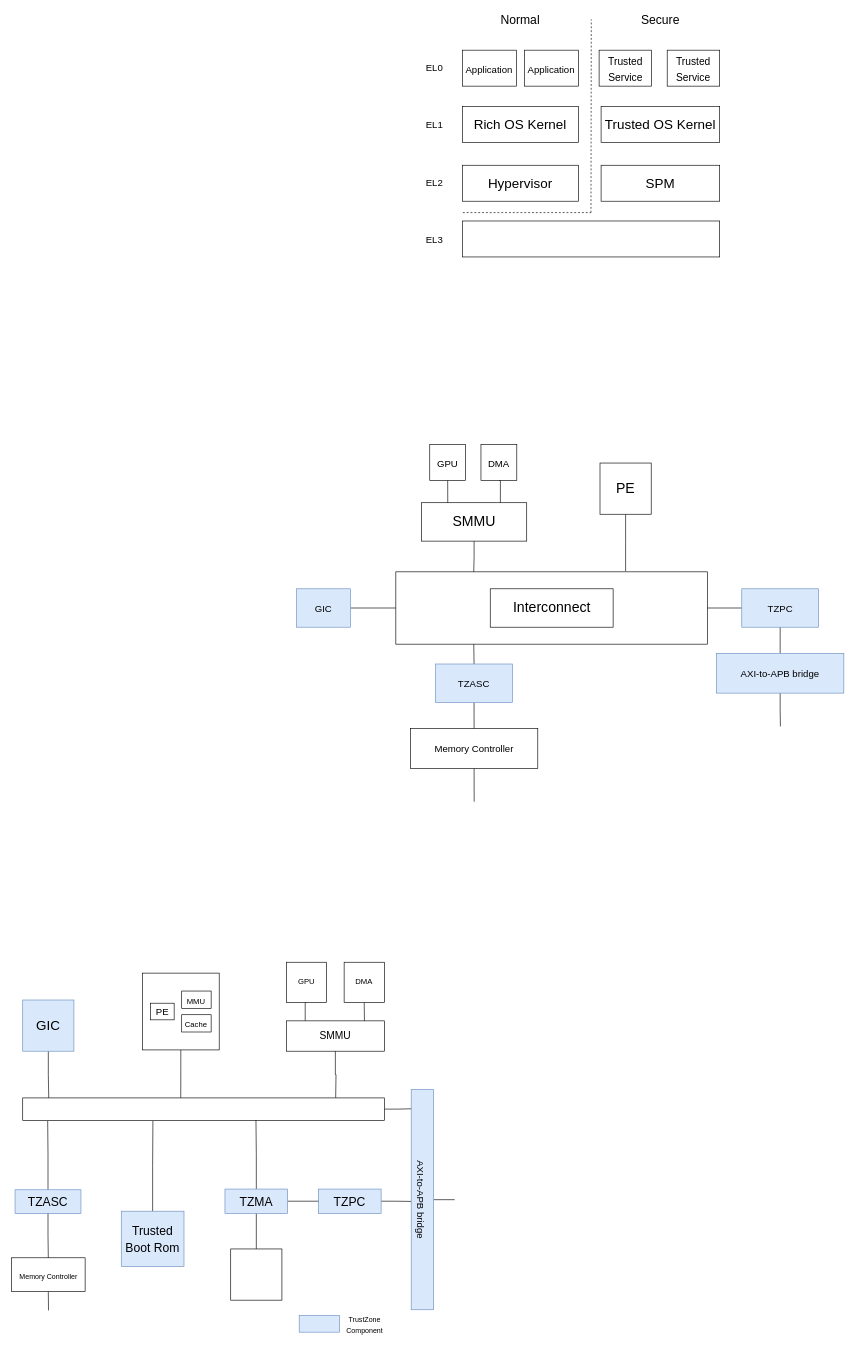
This 855x1346 diagram has some shape labels left out. Each missing label, with the centre of its shape:
"AXI bus" goes at (x=203, y=1108).
"Secure Monitor" goes at (x=591, y=238).
"SRAM" goes at (x=256, y=1274).
